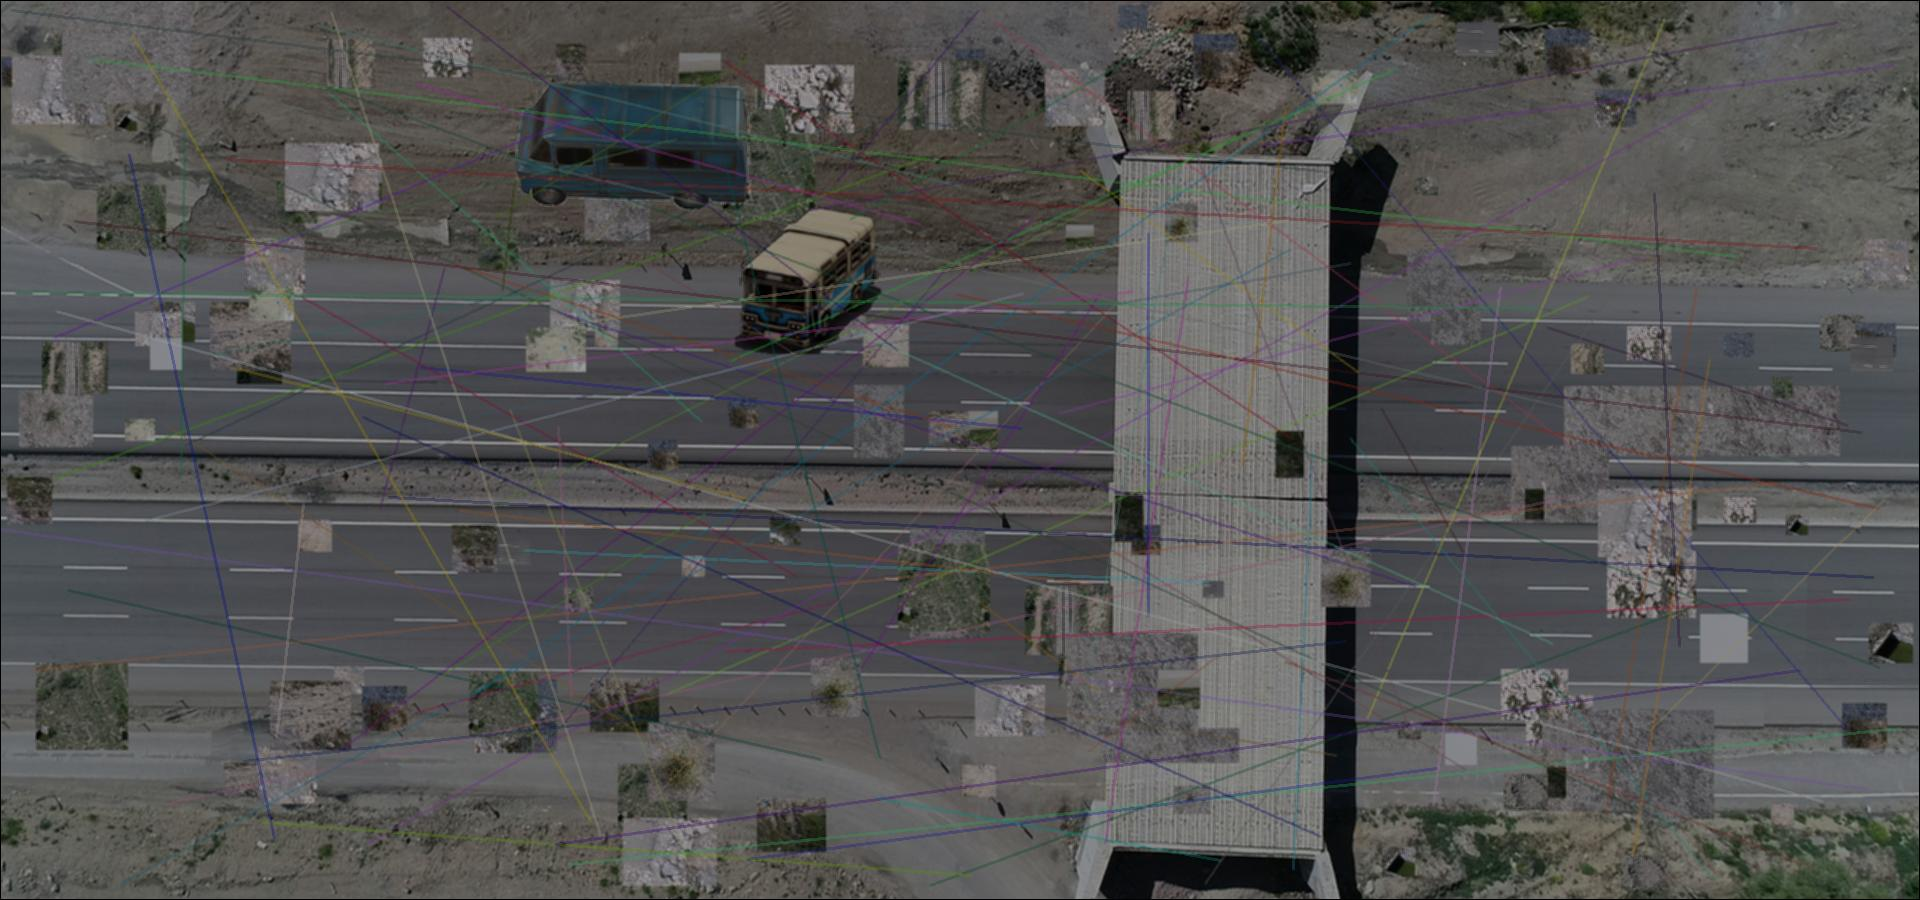arac: (516, 84, 751, 213), (735, 206, 882, 354)
